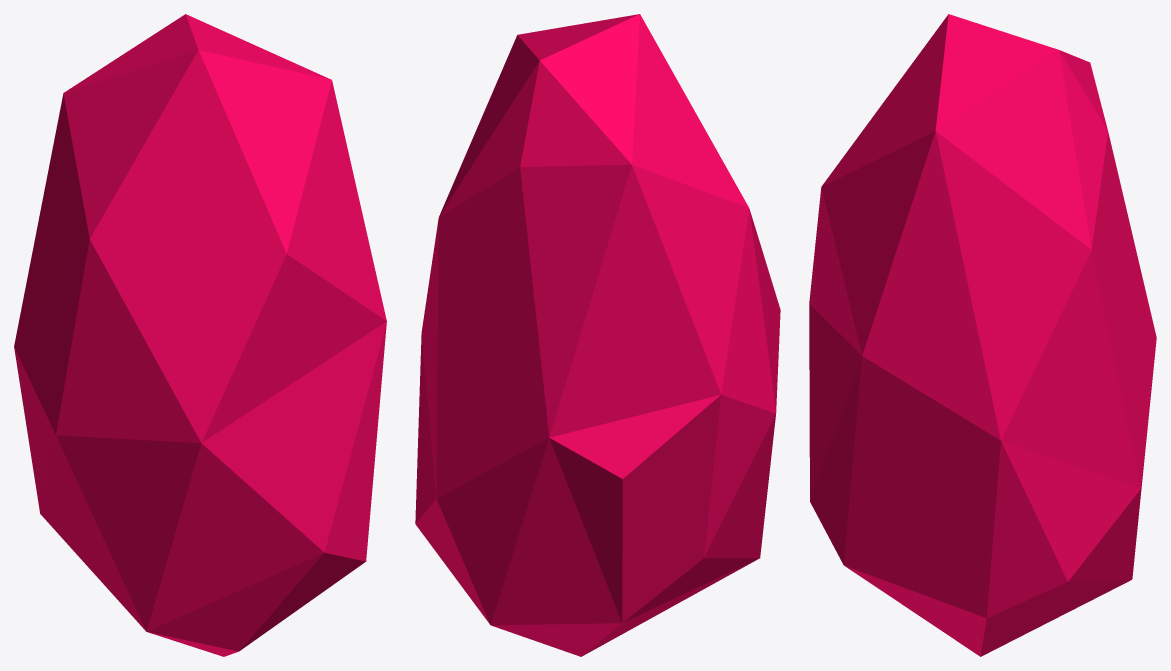
Rendered from Crystal_011.fbx.
The picture shows the model from 3 angles, left to right: view 1: azimuth 30°, elevation 25°; view 2: azimuth 150°, elevation 25°; view 3: azimuth 270°, elevation 25°; orthographic projection. The views are drawn at different scales.
Visible parts, largest first — view 1: Crystal.011; view 2: Crystal.011; view 3: Crystal.011.
Part boxes in pixels (x1,y1,x2,y2): Crystal.011: (14,14,386,656); Crystal.011: (415,14,780,656); Crystal.011: (809,14,1156,656).
Bounding box in the file's own units: 176 × 325 × 164.
